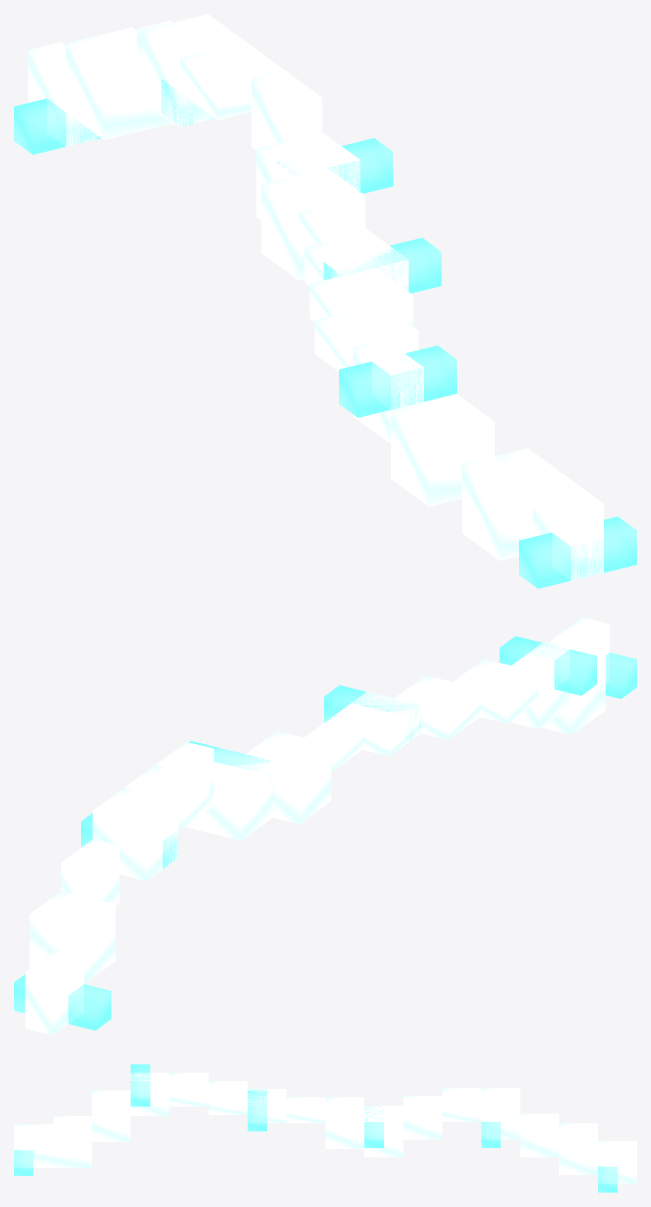
File: stun-arc.glb
3 views of the same model, one above another, from view 1: azimuth 30°, elevation 25°; view 2: azimuth 150°, elevation 25°; view 3: azimuth 270°, elevation 25° (orthographic). The views are drawn at different scales.
Parts seen in each view (by area): view 1: layer.core, layer.glow; view 2: layer.core, layer.glow; view 3: layer.core, layer.glow.
Boxes of the visible parts, box(x1,y1,x2,y2) form: layer.core: box(28, 14, 603, 580); layer.glow: box(14, 79, 636, 588); layer.core: box(25, 617, 609, 1035); layer.glow: box(14, 636, 636, 1030); layer.core: box(14, 1072, 636, 1184); layer.glow: box(14, 1064, 617, 1192).
Size of the model in its own units: 0.25 by 0.1562 by 1.
